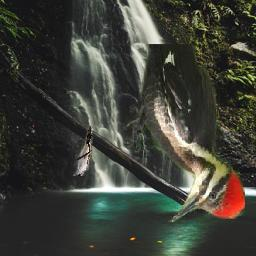Cuckoo: (73, 126, 93, 177)
Woodpecker: (123, 44, 245, 222)
